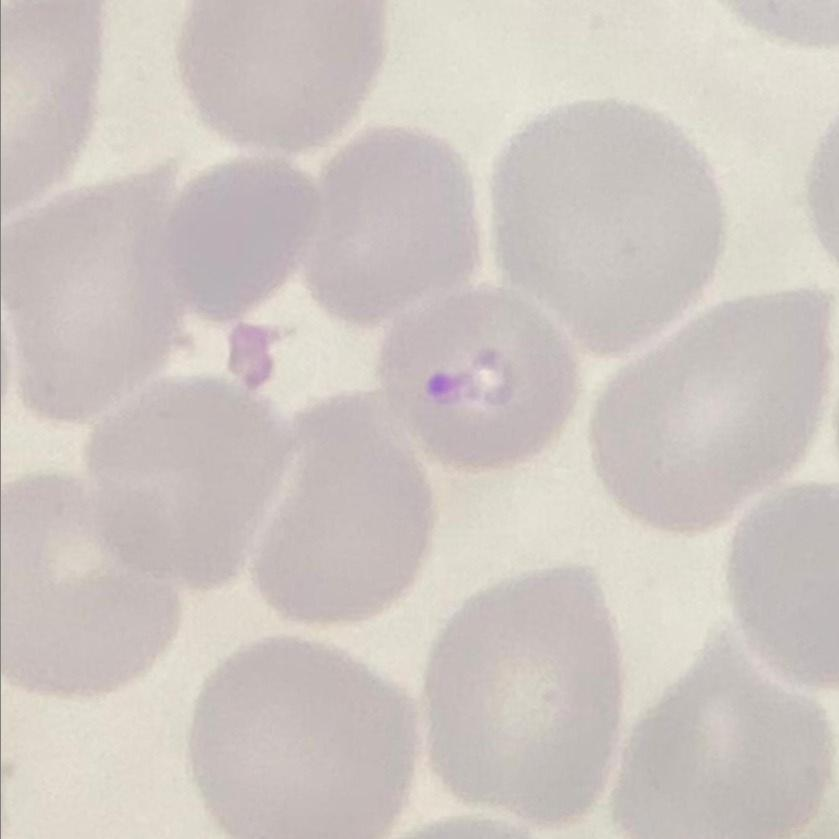Infected: (383, 287, 582, 473)
Uninfected: (590, 280, 835, 527), (492, 99, 723, 350), (432, 567, 621, 824), (187, 632, 417, 839), (85, 374, 298, 587), (623, 627, 837, 839), (0, 170, 181, 419), (0, 469, 182, 699), (256, 396, 430, 628), (310, 120, 478, 327), (178, 0, 387, 151), (165, 150, 318, 318)
